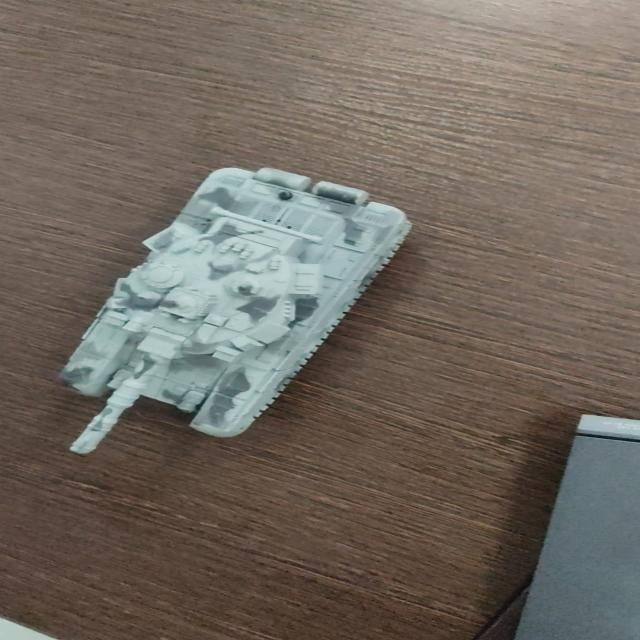tank: (67, 167, 410, 458)
